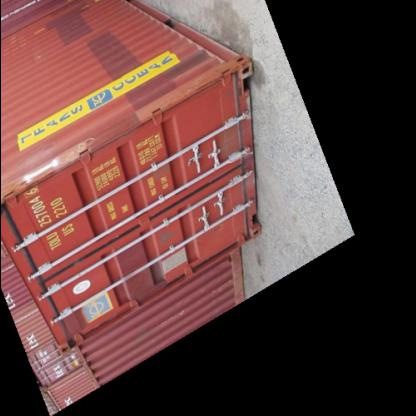Damage: (2, 144, 86, 202), (151, 63, 243, 104), (221, 125, 250, 178)
